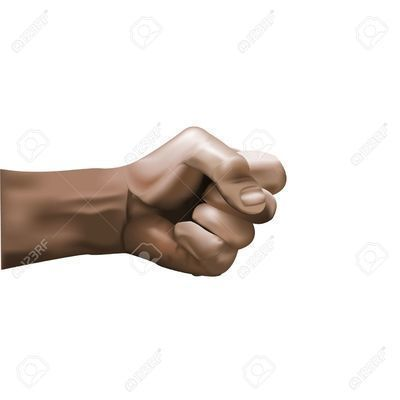closedhandfront: (121, 110, 297, 297)
